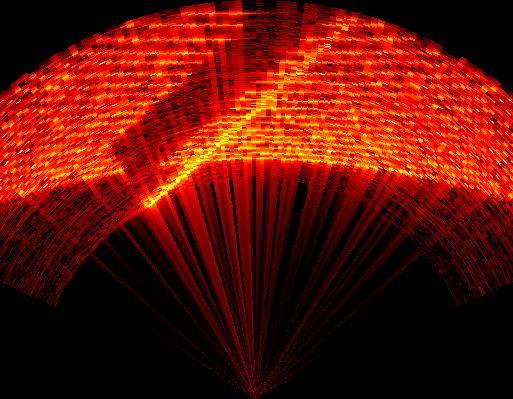pipe: (108, 5, 351, 205)
